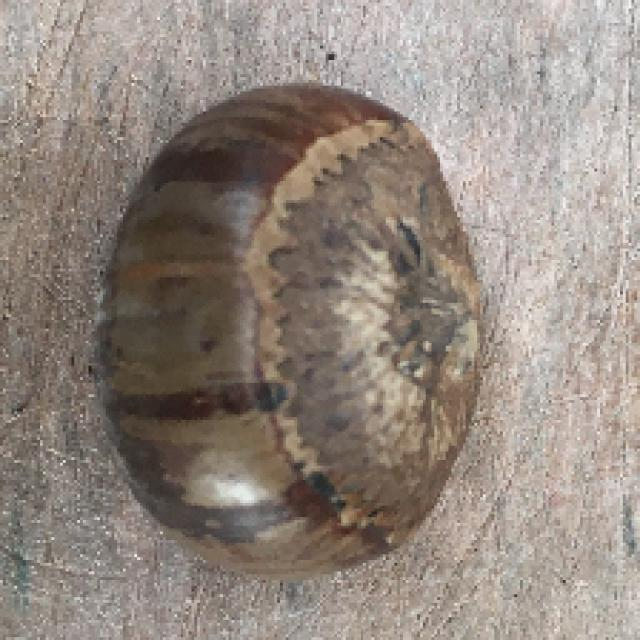damagedHazelnut: (88, 84, 495, 589)
